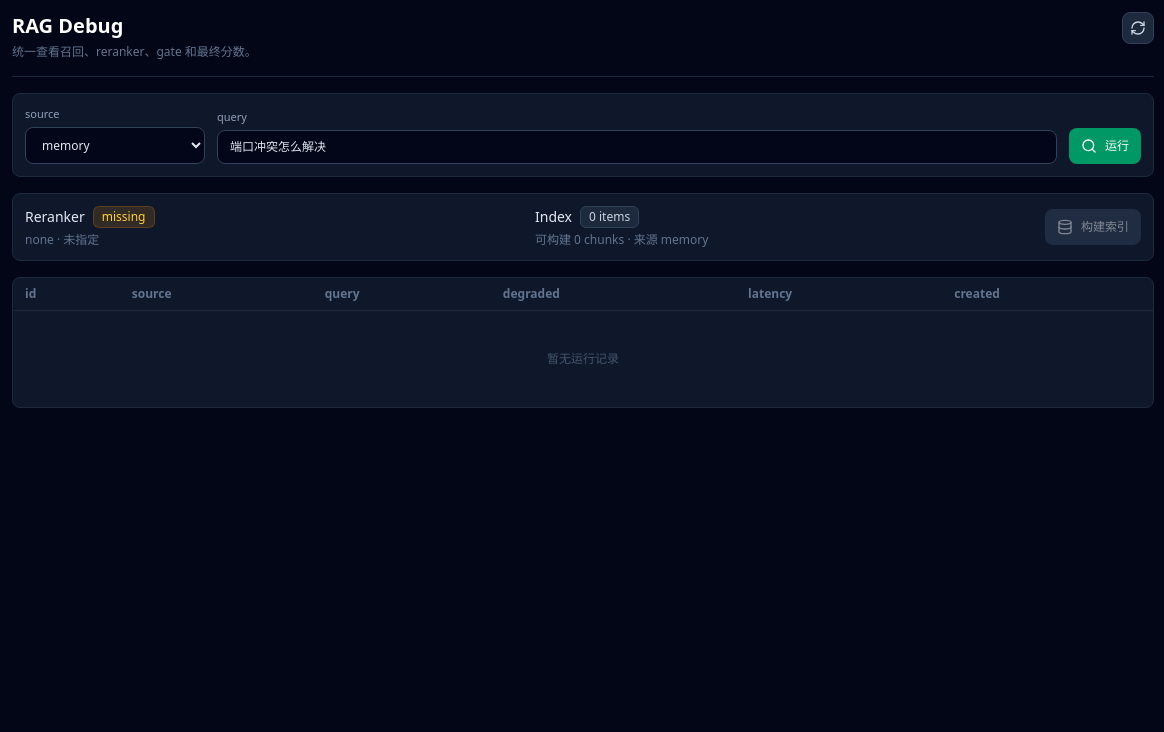
Scenario: RAG Debug 页面 › 群来源未选择群时在前端阻止请求并给出明确错误
Expected: the heading "RAG Debug" is shown, [12,12,123,39]
Select "group_memory" in the dropdown labelled "source": (115, 145) [25,126,205,164]
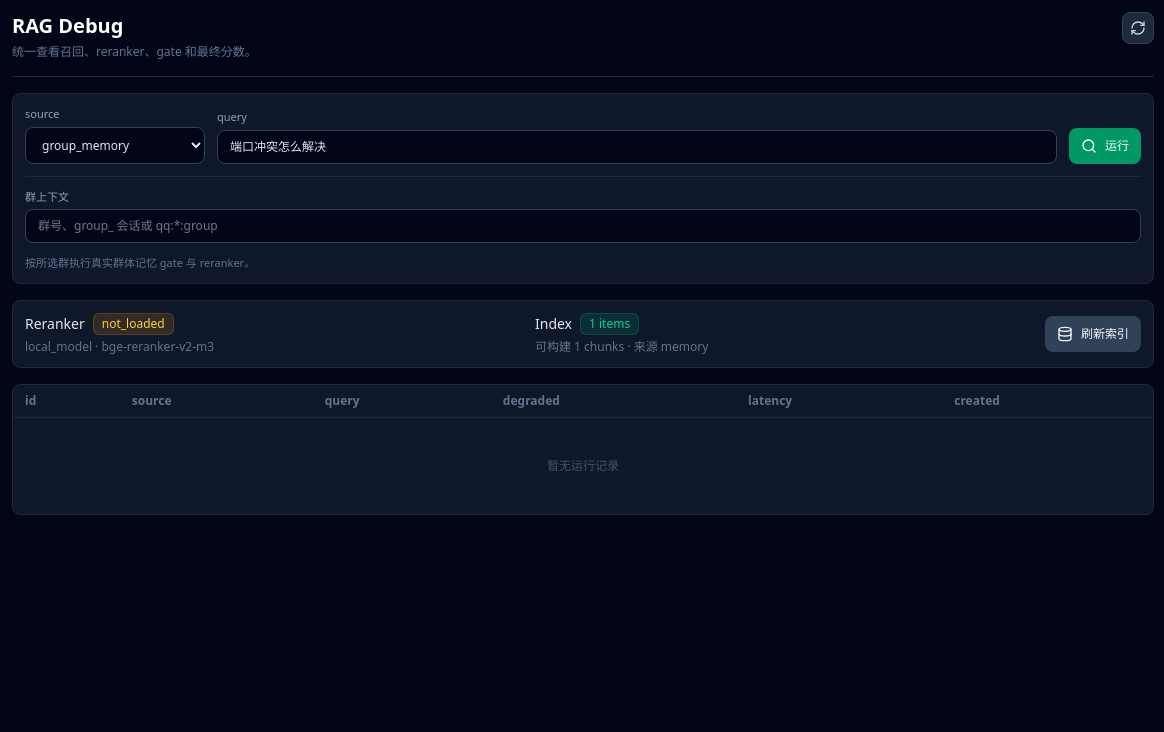
Click the button "运行": (1105, 146) [1069,128,1141,164]
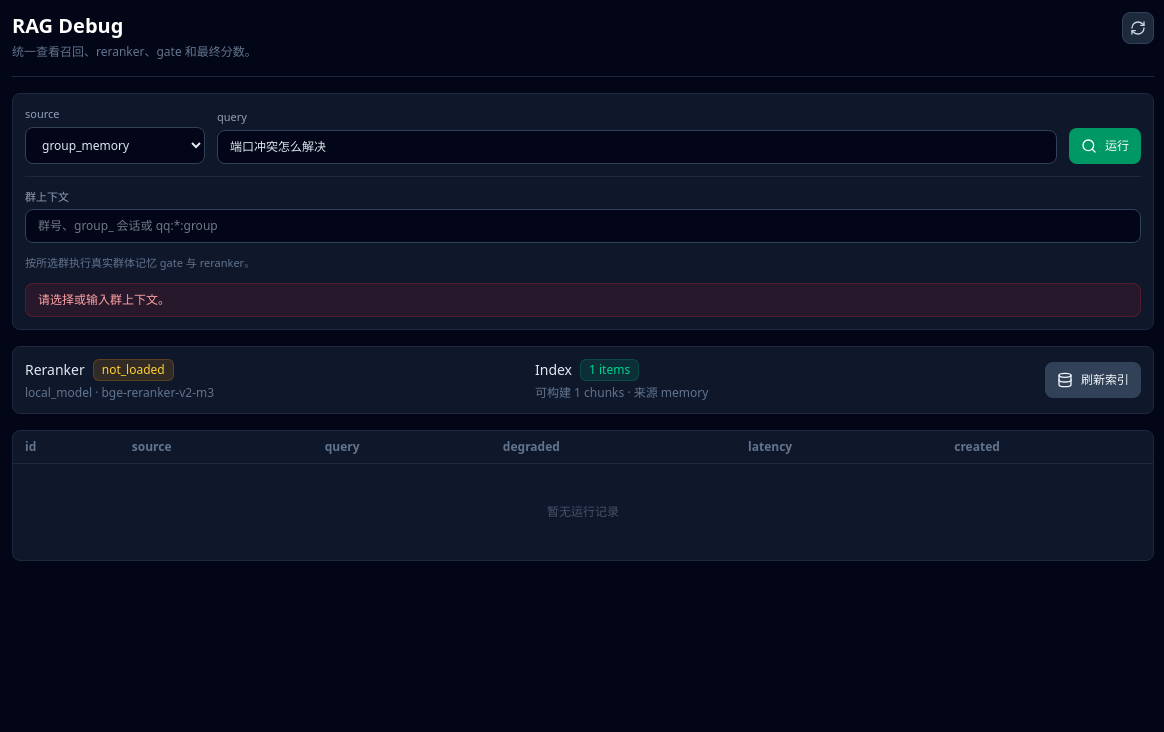
Expected: the text "请选择或输入群上下文。" is shown, [25,283,1141,317]
